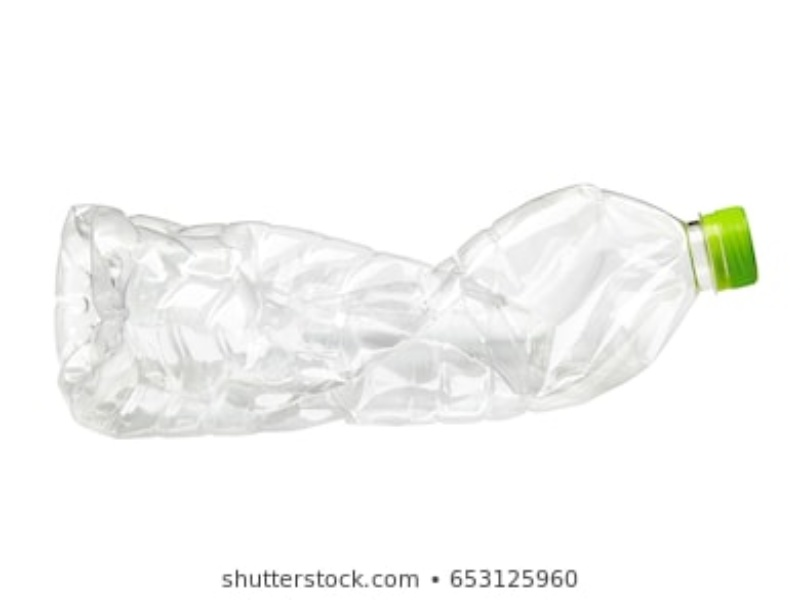bottle-cap: (695, 203, 762, 292)
plastic-bottle: (45, 184, 760, 438)
